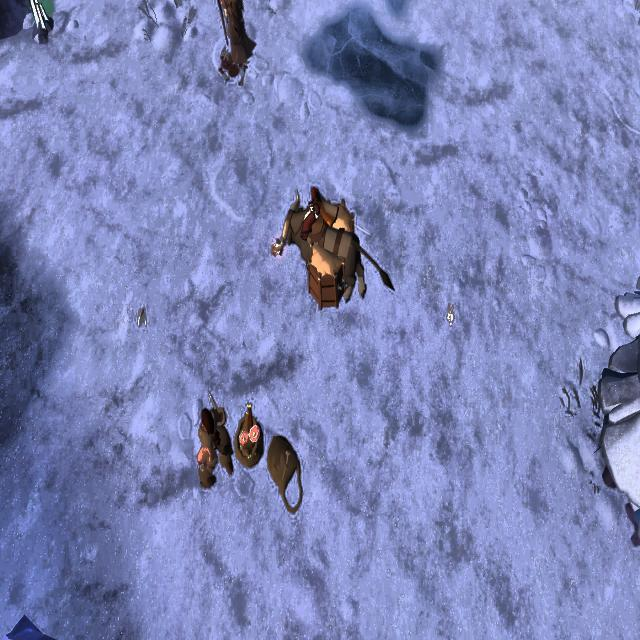enemy_factionKeeper: (185, 394, 234, 484)
ore_t4: (28, 0, 51, 39)
